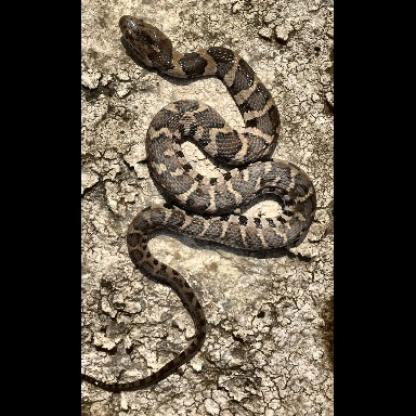Snake: (110, 6, 322, 406)
